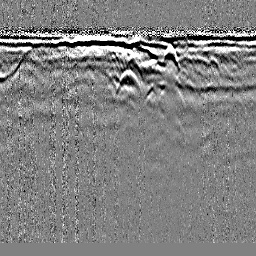cavity: (115, 67, 141, 92)
